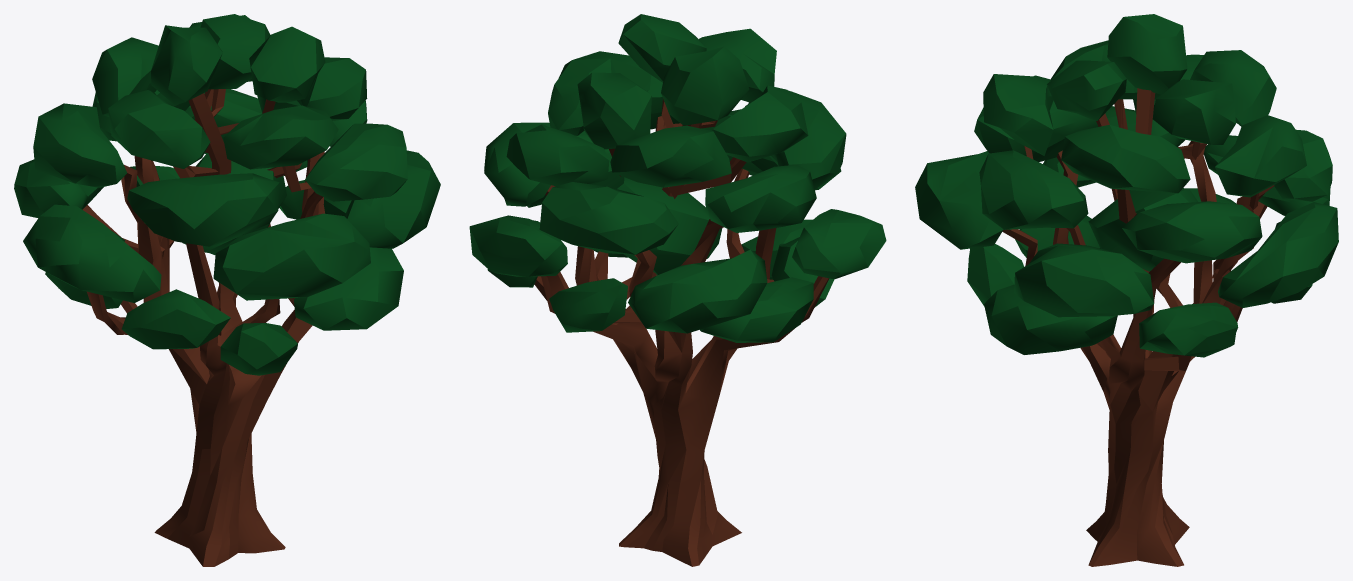
File: Tree_1_Low.fbx
3 views of the same model, side by side, from view 1: azimuth 30°, elevation 25°; view 2: azimuth 150°, elevation 25°; view 3: azimuth 270°, elevation 25° (orthographic). The views are drawn at different scales.
Parts seen in each view (by area): view 1: Tree_1_Low; view 2: Tree_1_Low; view 3: Tree_1_Low.
Part boxes in pixels (x1,y1,x2,y2): Tree_1_Low: (14, 14, 440, 566); Tree_1_Low: (469, 14, 886, 566); Tree_1_Low: (915, 14, 1338, 566).
Bounding box in the file's own units: 160 × 208 × 156.
